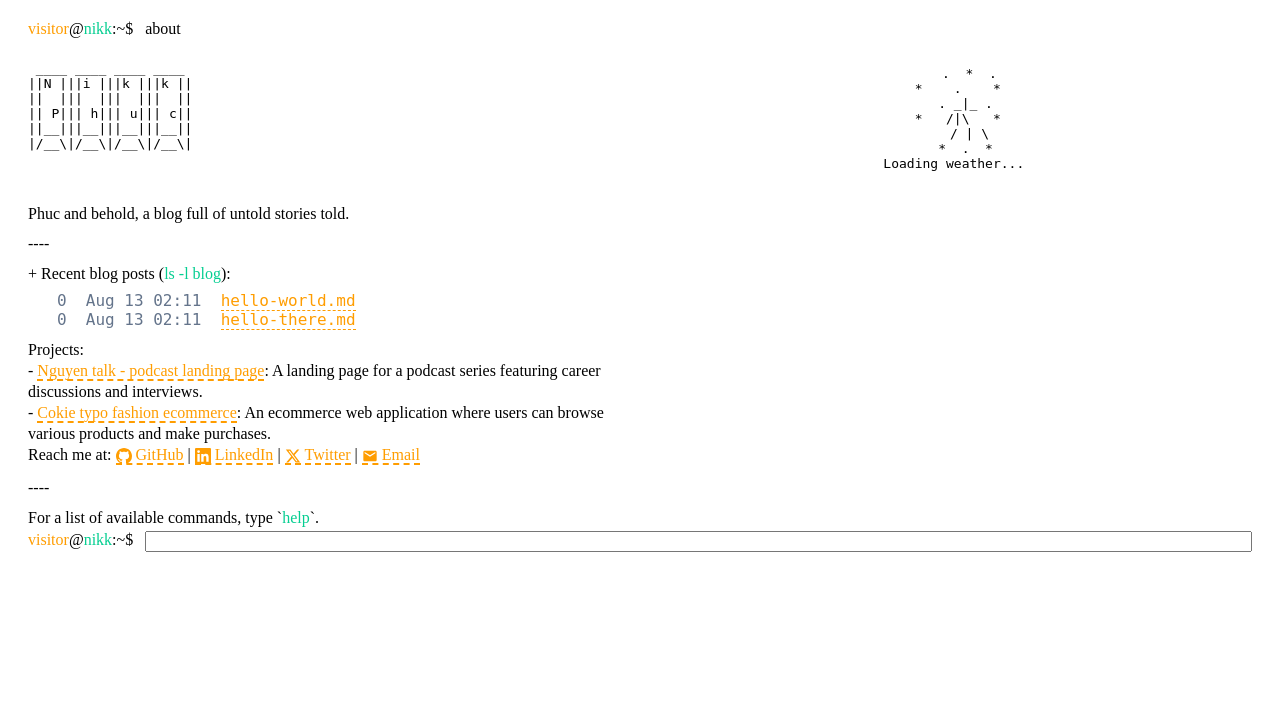
Test: Terminal component › autocomplete behavior › shows hints and selects first match for multiple matching paths for cat command
# 'blog' directory has multiple files starting with 'hello'
In the field titled "terminal-input": (699,542) [145, 531, 1252, 552], type "cat blog/hello"
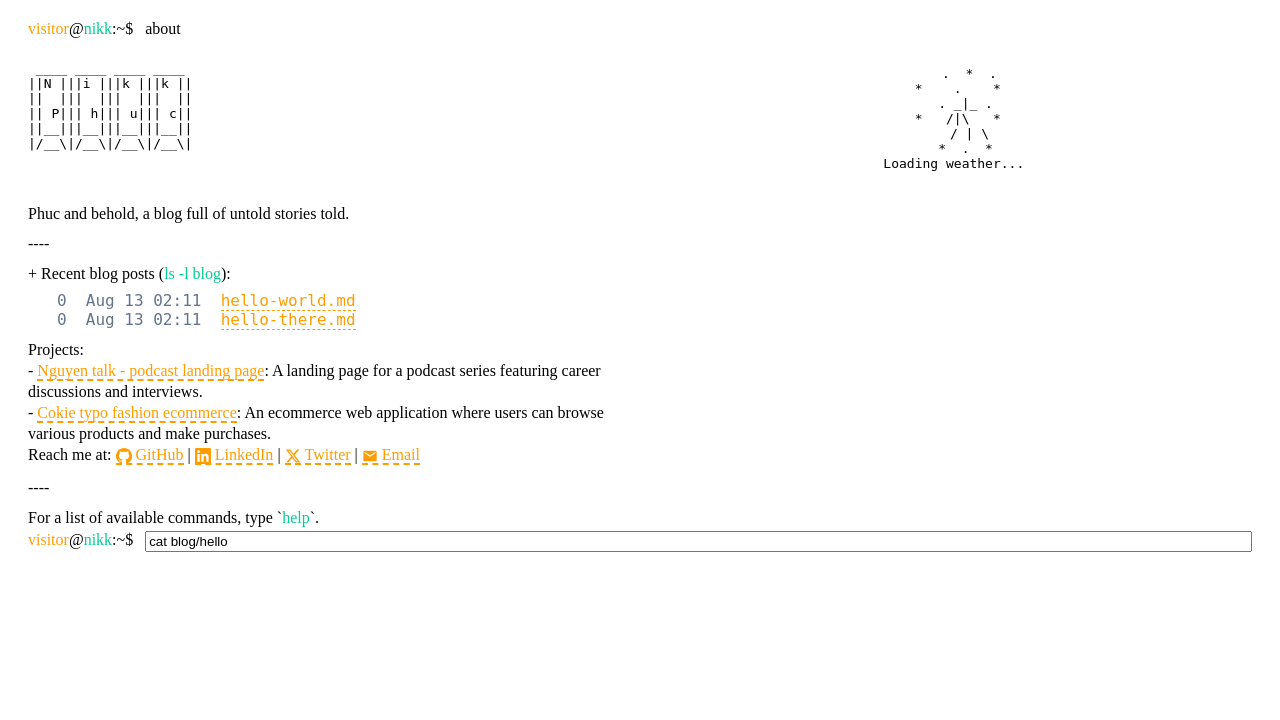
Press Tab in the field titled "terminal-input", box [145, 531, 1252, 552]
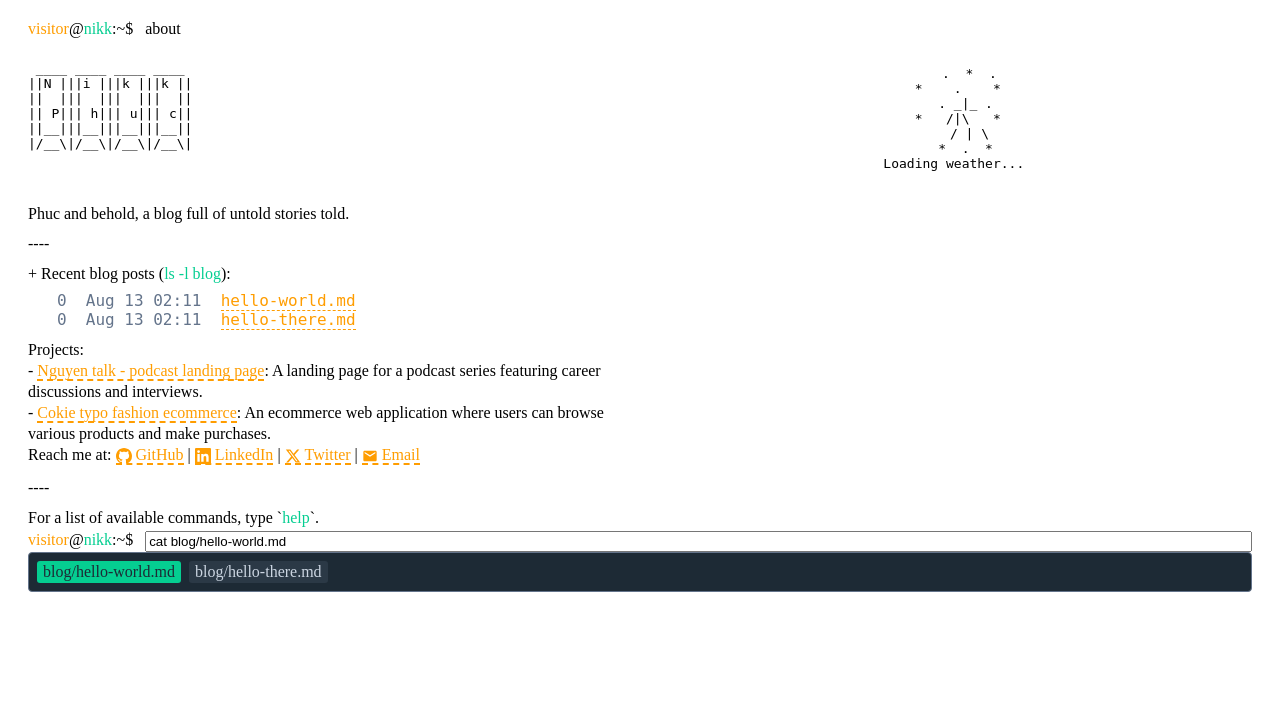
Now the text "blog/hello-world.md" is shown, box [37, 561, 181, 583]
Now the text "blog/hello-there.md" is shown, box [189, 561, 328, 583]
